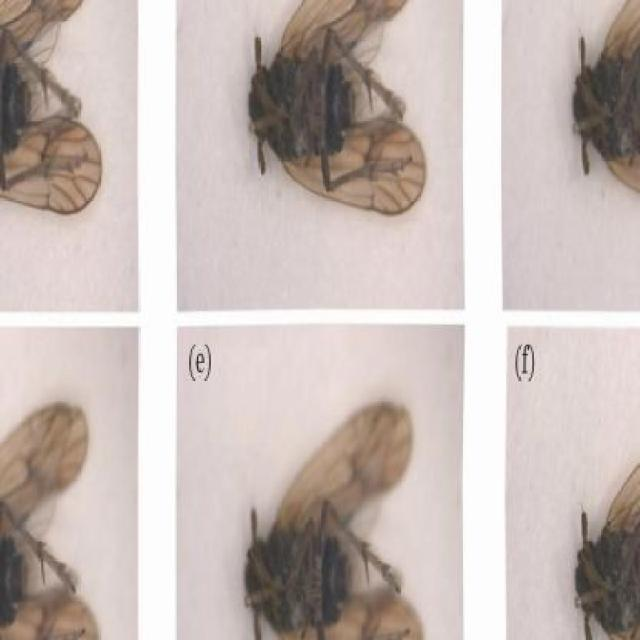brown-planthopper: (241, 386, 425, 640), (245, 1, 429, 222), (0, 386, 100, 640), (0, 0, 111, 217), (569, 2, 640, 206), (569, 447, 640, 640)
